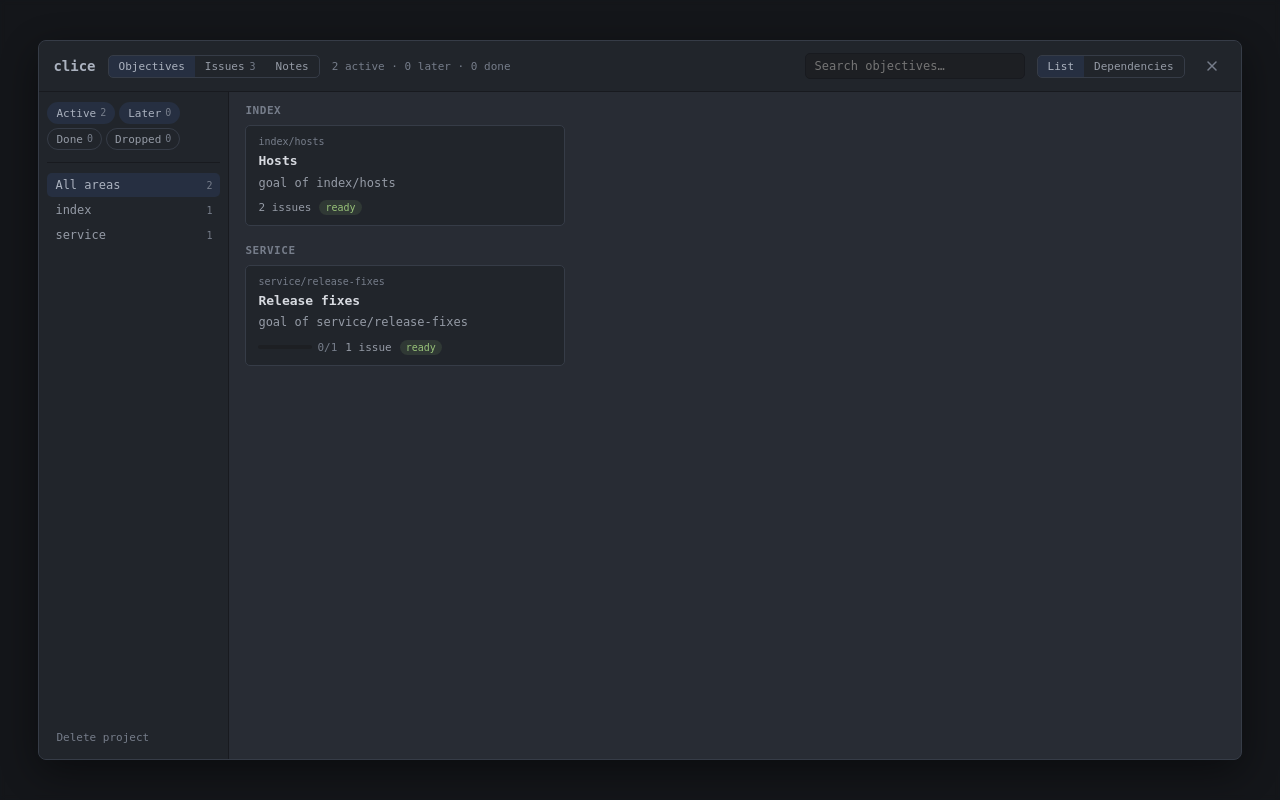
Test: issues on the objectives' side › lists the issues linked to an objective, and opens one
Click the button "index/hosts Hosts goal of index/hosts 2 issues ready" at (292, 142), box [245, 125, 565, 226]
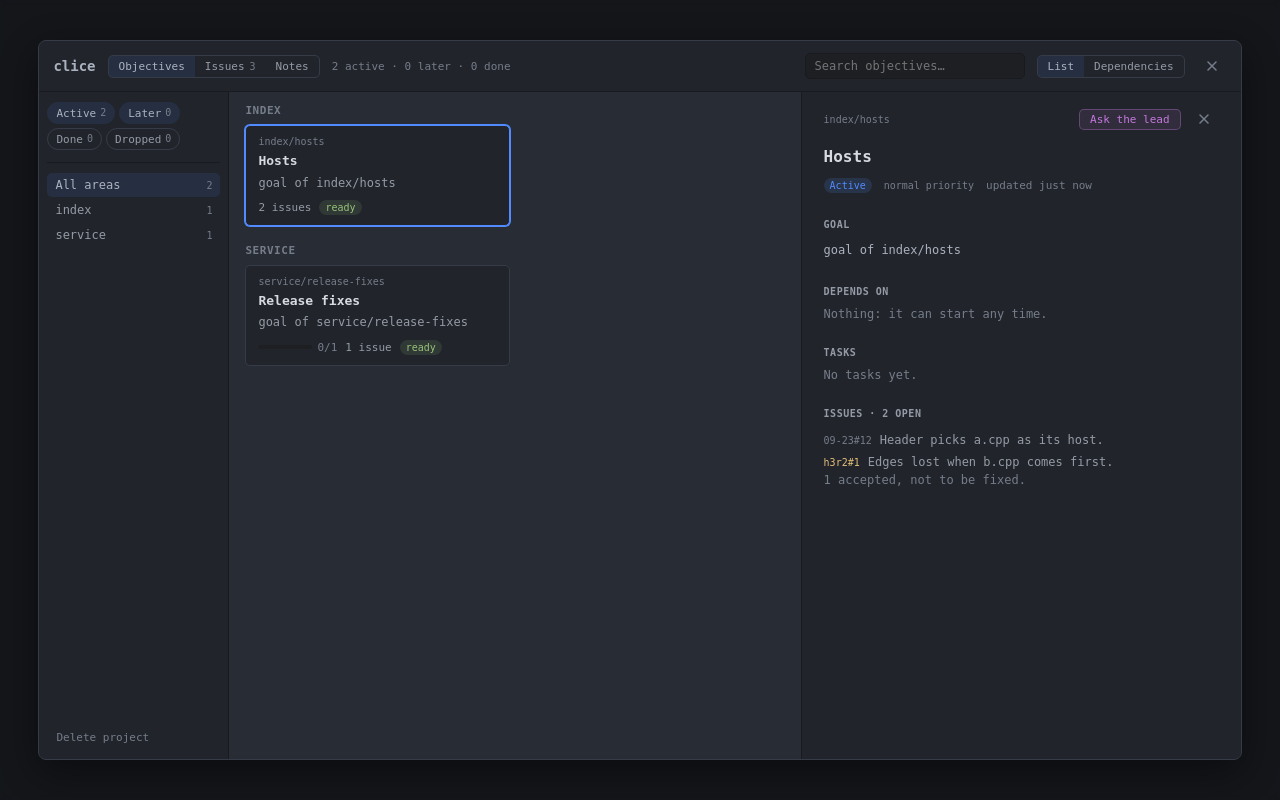
Check: the heading "Issues · 2 open" is shown, box [824, 408, 921, 419]
Check: the text "1 accepted, not to be fixed." is shown, box [824, 473, 1026, 487]
Click the button "h3r2#1 Edges lost when b.cpp comes first." at (1021, 462), box [824, 451, 1219, 473]
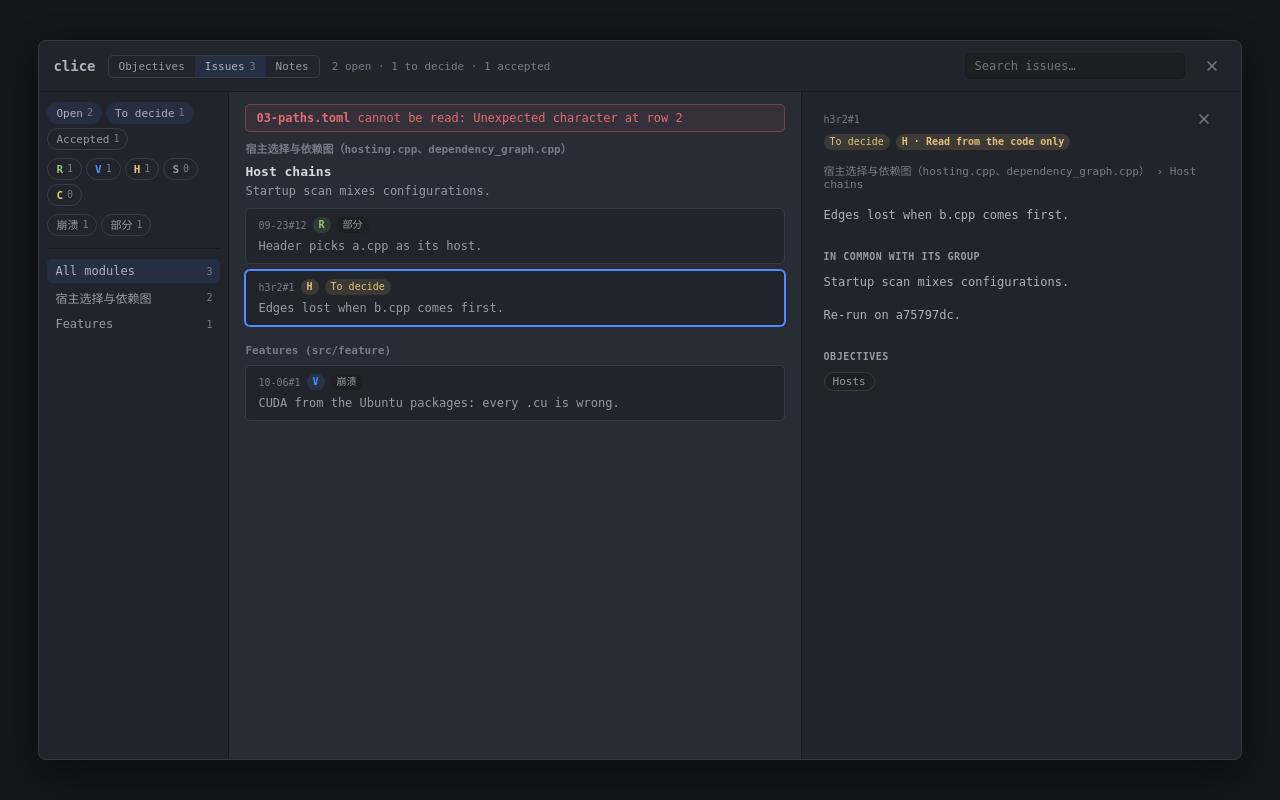
Check: the element named "Issue h3r2#1" is shown, box [801, 92, 1241, 759]
